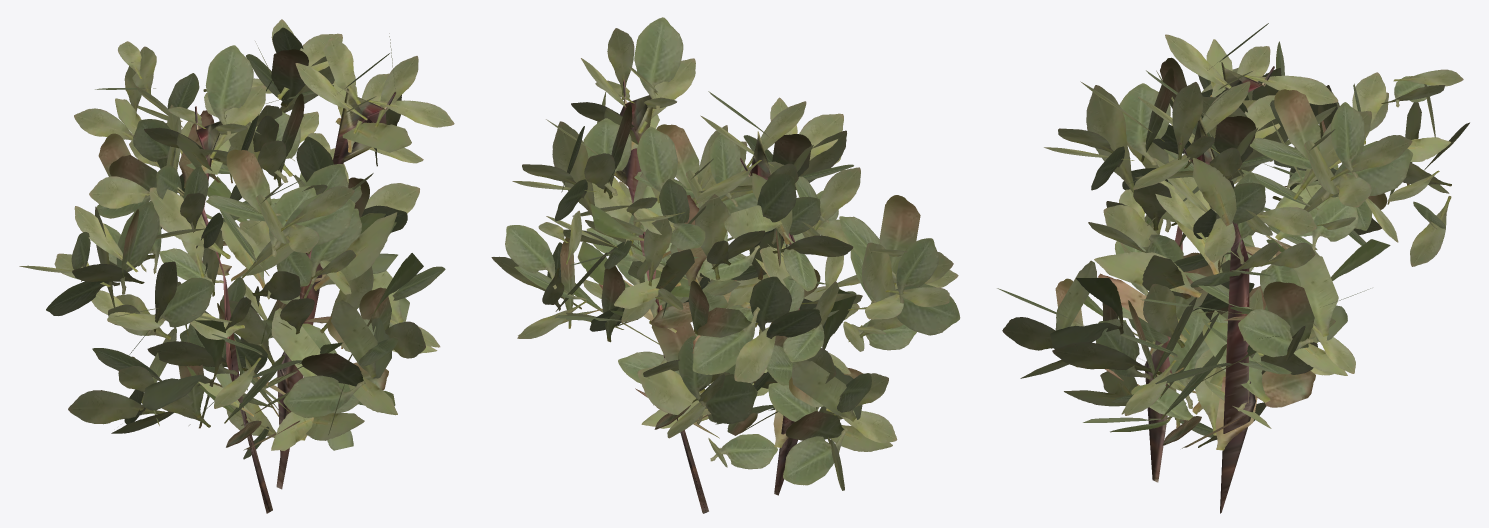
Rendered from ph_shrub_04.glb.
3 renders of one model, left to right at view 1: azimuth 30°, elevation 25°; view 2: azimuth 150°, elevation 25°; view 3: azimuth 270°, elevation 25°, orthographic. The views are drawn at different scales.
Parts seen in each view (by area): view 1: shrub_04_s_0_stems; view 2: shrub_04_s_0_stems; view 3: shrub_04_s_0_stems.
Boxes of the visible parts, bbox=[...] form: shrub_04_s_0_stems: bbox=[19, 19, 454, 513]; shrub_04_s_0_stems: bbox=[491, 17, 960, 513]; shrub_04_s_0_stems: bbox=[997, 23, 1469, 513].
Bounding box in the file's own units: 0.9172 × 0.9022 × 0.8042.
Materials: 1 (1 with a texture image).
